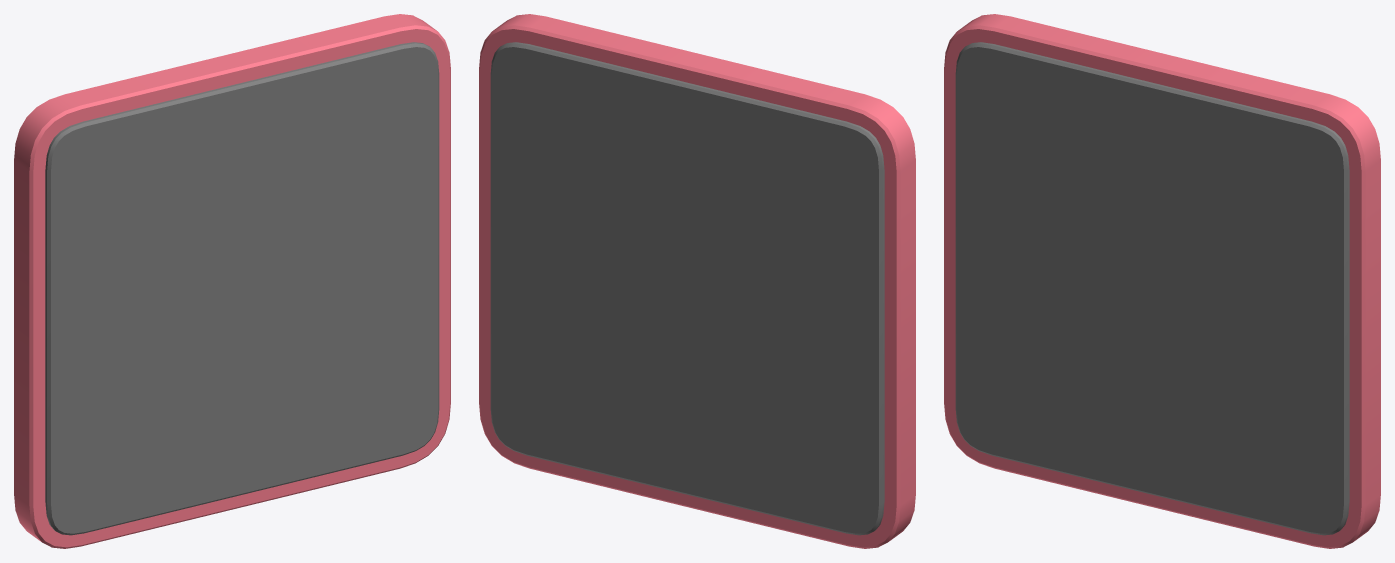
The model's file is Square.fbx.
3 views of the same model, side by side, from view 1: azimuth 30°, elevation 25°; view 2: azimuth 150°, elevation 25°; view 3: azimuth 330°, elevation 25° (orthographic).
Parts seen in each view (by area): view 1: Box002; view 2: Box002; view 3: Box002.
Part boxes in pixels (x1=…): Box002: x1=14, y1=14, x2=450, y2=548; Box002: x1=479, y1=14, x2=915, y2=548; Box002: x1=944, y1=14, x2=1380, y2=548.
Size of the model in its own units: 40 by 40 by 4.
